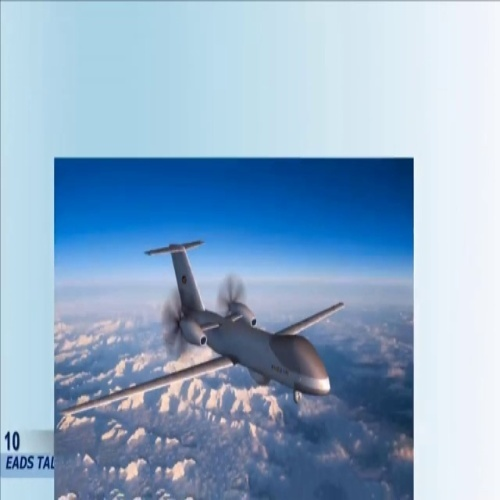uav935: (51, 239, 348, 416)
